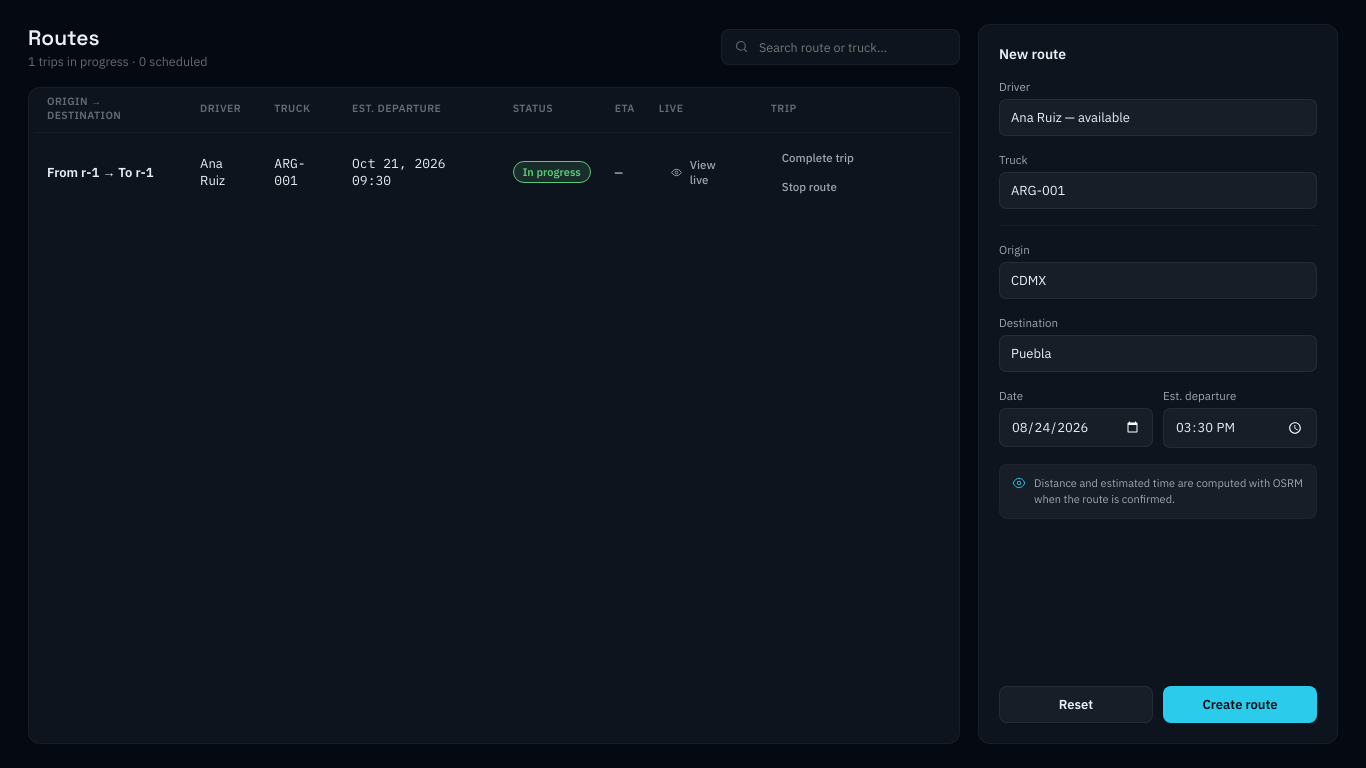
Scenario: TravelManagement trips › Complete trip asks for confirmation, then sets the route completed with an arrival time
What coordinates should you click on to do the following:
click the button "Complete trip"
I would click on:
 (818, 158)
Its box is [771,145,865,170].
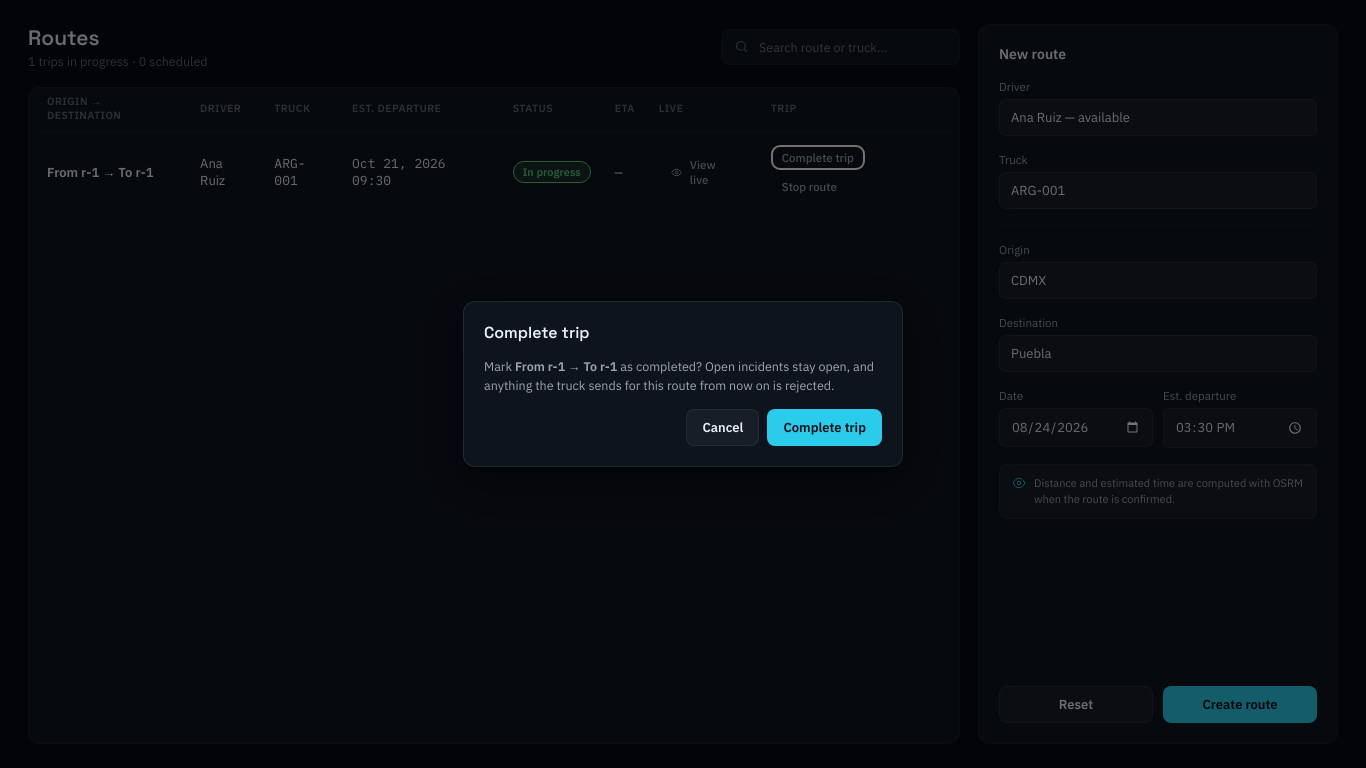
What coordinates should you click on to do the following:
click the button "Complete trip"
I would click on:
 (825, 427)
Its box is [767,409,882,446].
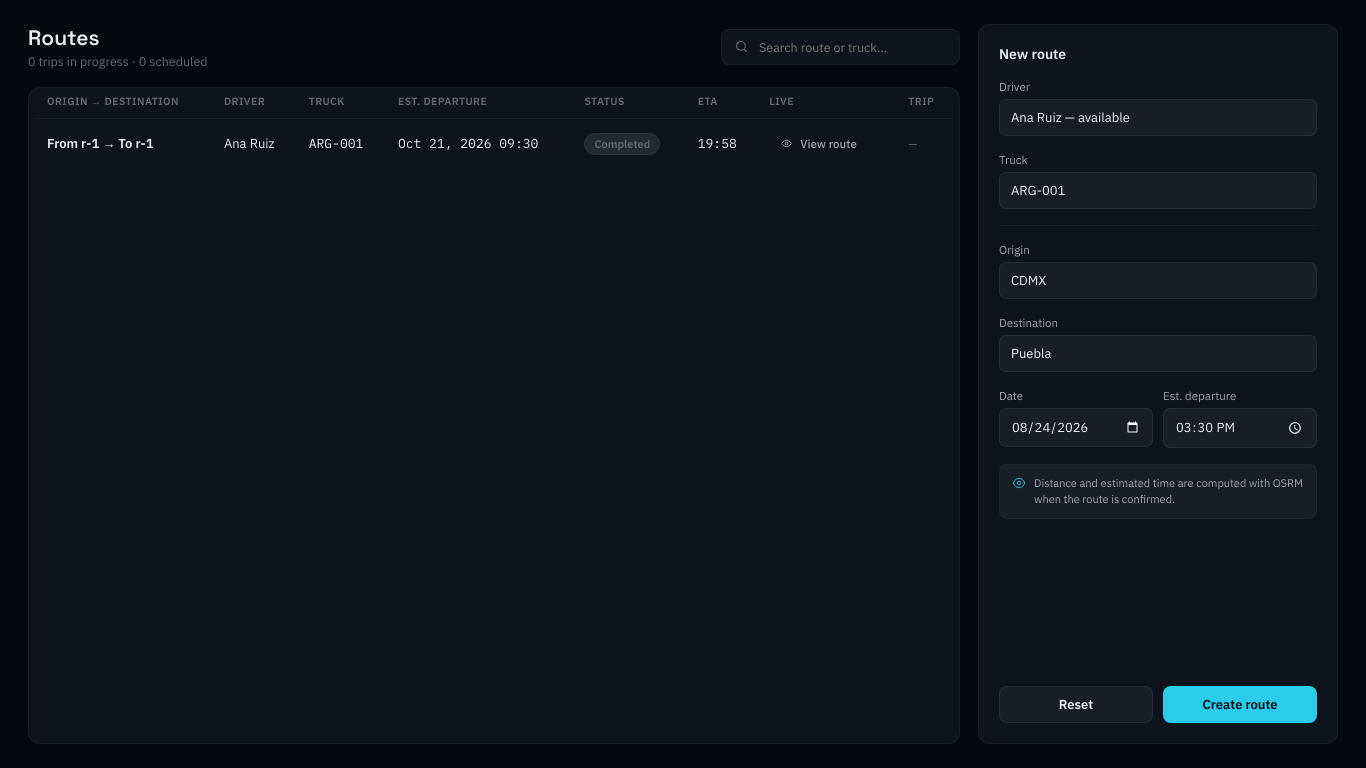
Expected: the text "Completed" is shown, [584,132,660,154]
Expected: the button "Stop route" is gone
